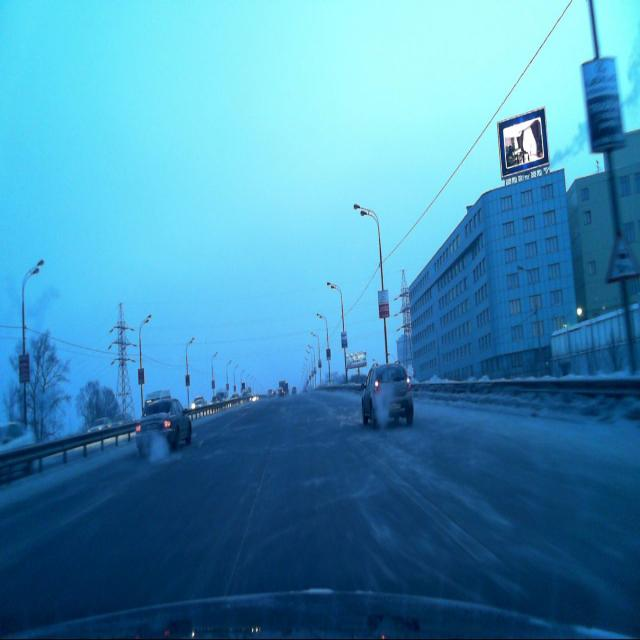road sign: (606, 226, 640, 284)
